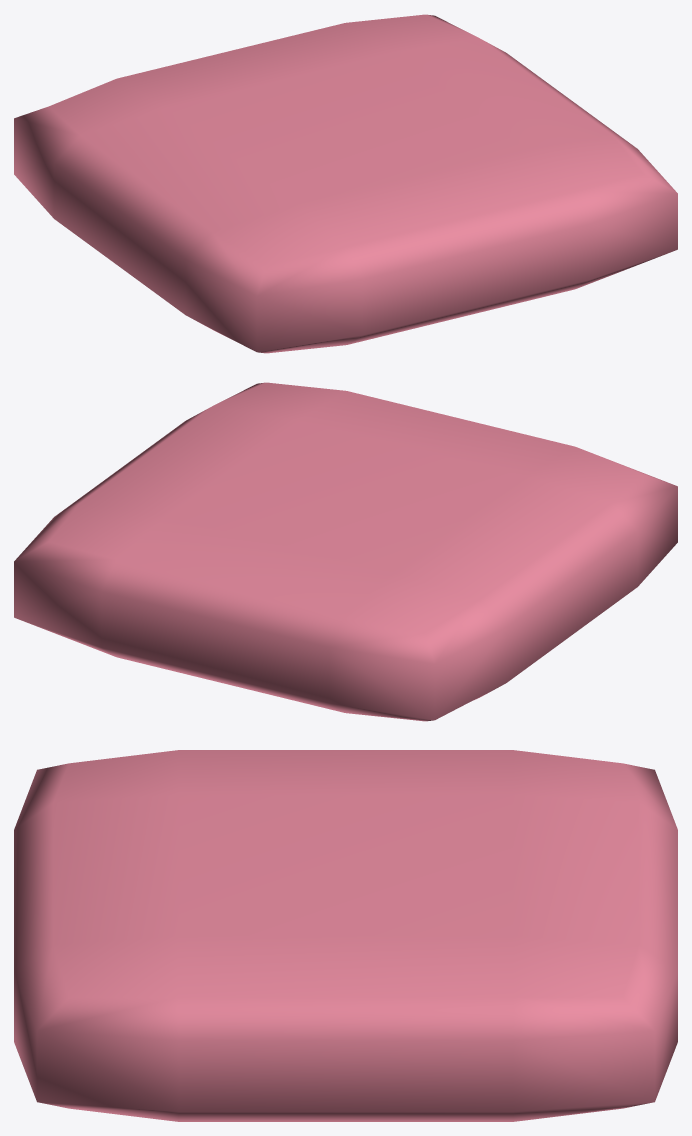
The model's file is Pillow_22.glb.
The picture shows the model from 3 angles, top to bottom: view 1: azimuth 30°, elevation 25°; view 2: azimuth 150°, elevation 25°; view 3: azimuth 270°, elevation 25°; orthographic projection. The views are drawn at different scales.
Visible parts, largest first — view 1: Pillow_22; view 2: Pillow_22; view 3: Pillow_22.
Boxes of the visible parts, left/top/right/bottom form: Pillow_22: left=14, top=14, right=677, bottom=353; Pillow_22: left=14, top=382, right=677, bottom=721; Pillow_22: left=14, top=750, right=677, bottom=1121.
Bounding box in the file's own units: 0.5623 × 0.1318 × 0.5623.
1 material, 1 textured.
